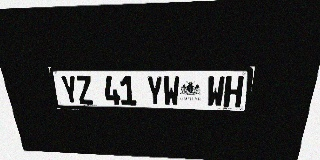1: (119, 76, 136, 105)
4: (102, 76, 121, 105)
H: (223, 76, 244, 107)
W: (206, 76, 225, 107), (163, 76, 180, 106)
Y: (60, 76, 79, 104), (146, 76, 163, 106)
Z: (75, 76, 94, 104)
